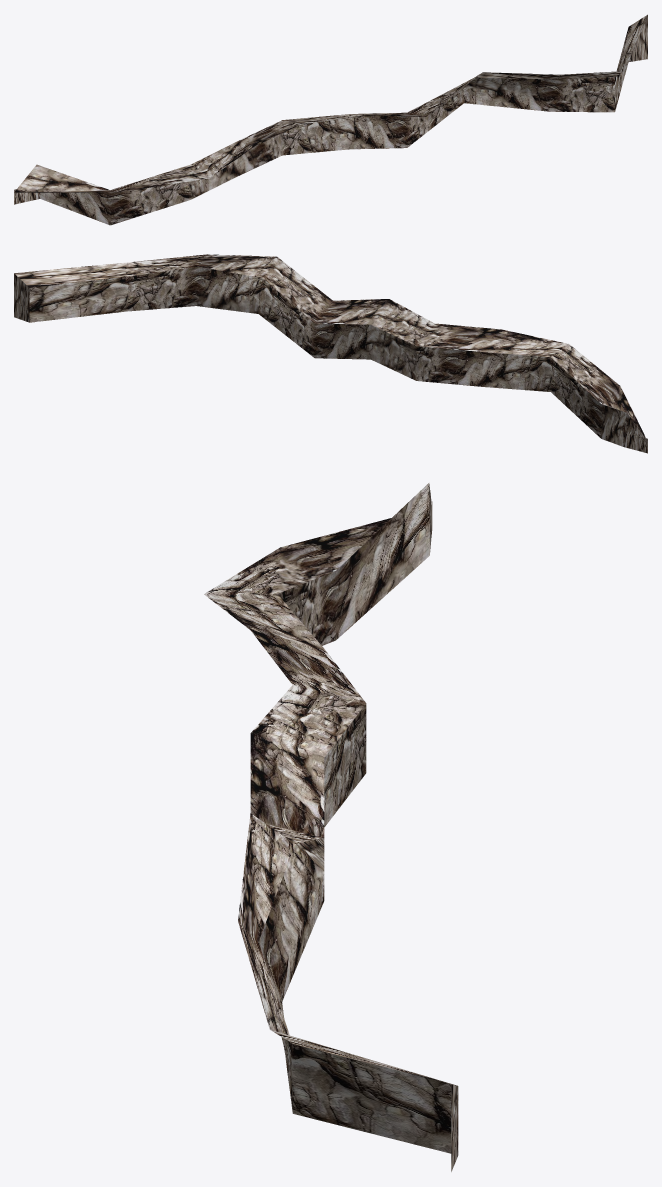
The picture shows the model from 3 angles, top to bottom: view 1: azimuth 30°, elevation 25°; view 2: azimuth 150°, elevation 25°; view 3: azimuth 270°, elevation 25°; orthographic projection. The views are drawn at different scales.
Visible parts, largest first — view 1: Box01; view 2: Box01; view 3: Box01.
Boxes of the visible parts, box(x1,y1,x2,y2) form: Box01: box(14, 14, 647, 225); Box01: box(14, 254, 647, 453); Box01: box(204, 483, 458, 1171).
Size of the model in its own units: 5410 by 676 by 947.
